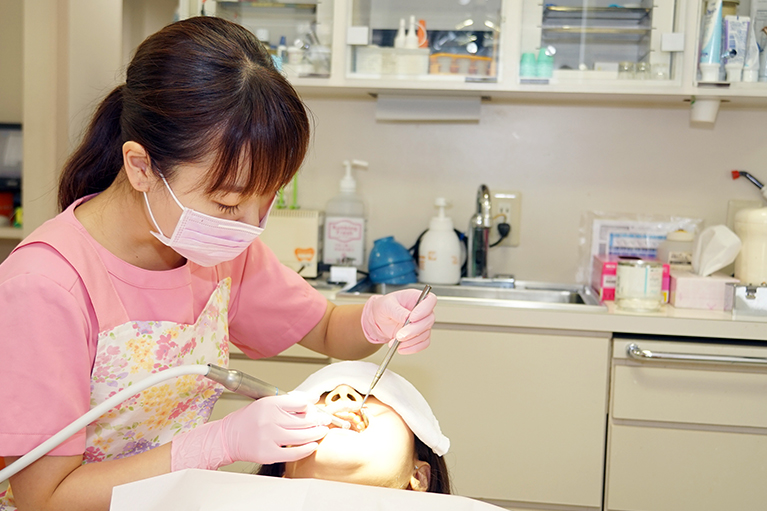mask: (149, 206, 272, 270)
